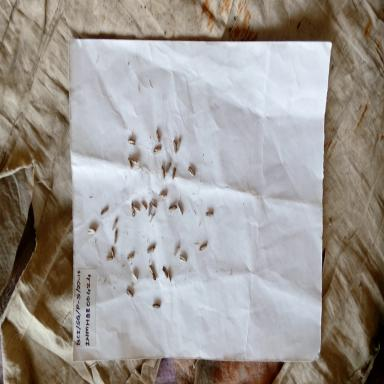pbw: (88, 224, 97, 238), (146, 244, 156, 256), (126, 286, 134, 300), (148, 210, 156, 224), (129, 202, 136, 218), (175, 136, 182, 152), (187, 165, 196, 177), (130, 156, 140, 166), (100, 206, 110, 216), (198, 242, 207, 253), (111, 217, 118, 231), (172, 245, 180, 257), (131, 270, 138, 283), (127, 157, 134, 170), (176, 201, 182, 216), (127, 136, 136, 146), (155, 129, 161, 143), (166, 269, 172, 283), (141, 199, 148, 211), (162, 265, 168, 279), (133, 204, 141, 214), (168, 204, 178, 212), (111, 246, 116, 261), (166, 162, 172, 174), (179, 255, 187, 264), (160, 192, 170, 199), (113, 230, 118, 244), (149, 270, 156, 280), (126, 254, 134, 262), (152, 302, 161, 309), (205, 211, 214, 218), (150, 200, 157, 209), (148, 264, 154, 274), (173, 140, 177, 155), (148, 204, 152, 219), (161, 165, 165, 179), (154, 146, 163, 152), (172, 167, 176, 180), (106, 256, 114, 262)
